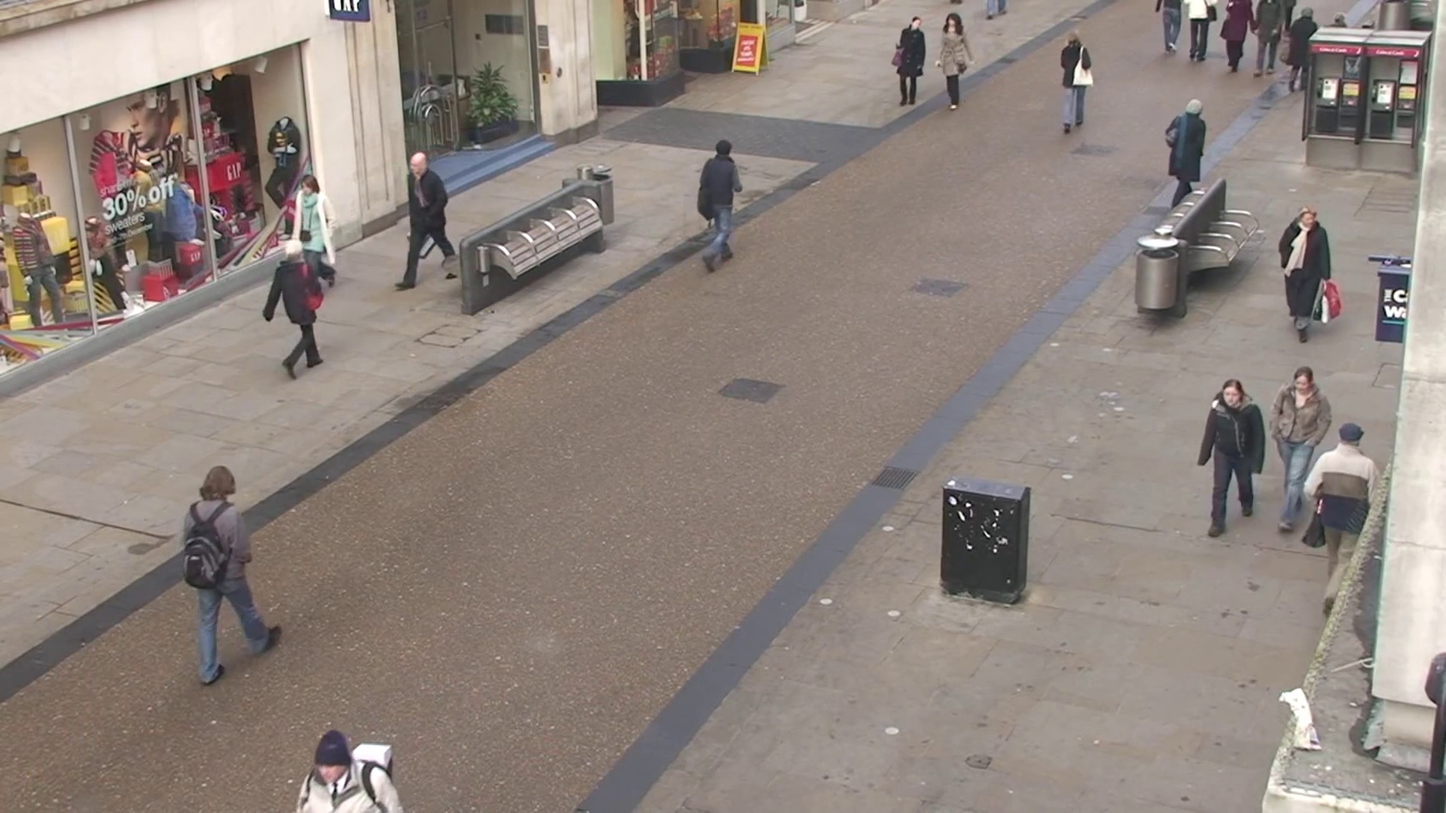person: (181, 465, 278, 685), (264, 151, 377, 287), (1196, 378, 1268, 537), (377, 151, 457, 291), (1271, 366, 1335, 531), (1297, 422, 1377, 550), (295, 727, 404, 811), (272, 227, 322, 377), (1279, 209, 1328, 341), (696, 139, 743, 273), (937, 12, 973, 111), (892, 16, 929, 108), (1060, 33, 1094, 133), (1170, 101, 1208, 187), (1248, 0, 1287, 79), (1287, 0, 1314, 99), (1173, 0, 1210, 65), (1219, 1, 1251, 75), (1154, 2, 1185, 62)
